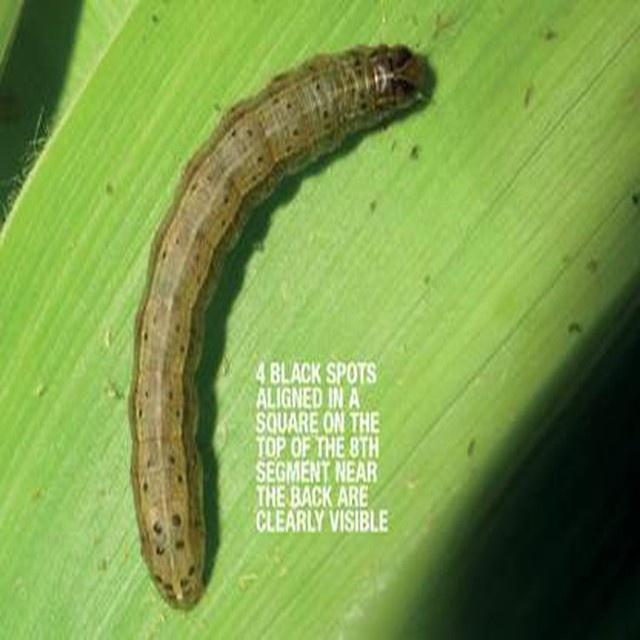Plaga: (127, 39, 438, 620)
